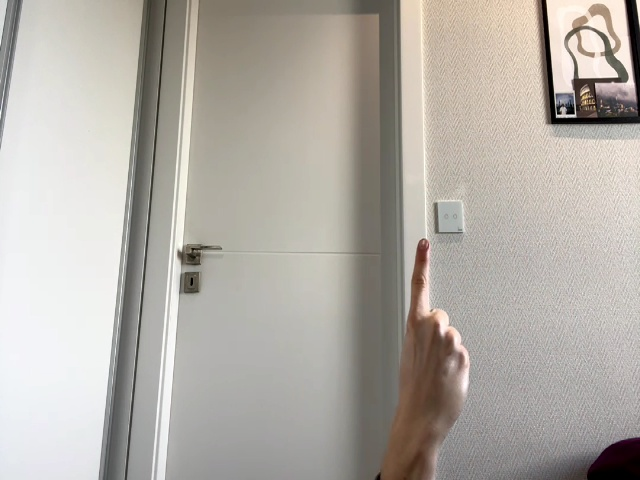D: (398, 239, 470, 437)
